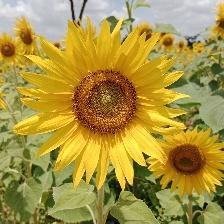sunflower: (17, 11, 191, 191)
